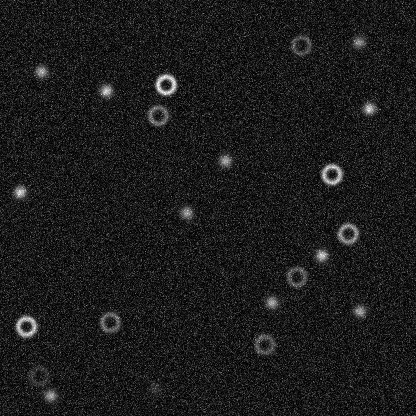Ring: (284, 264, 308, 288), (252, 332, 276, 356), (146, 103, 170, 127), (26, 363, 50, 387), (289, 33, 313, 57), (335, 221, 359, 245), (319, 162, 343, 186), (14, 314, 38, 338), (97, 310, 121, 334), (153, 72, 177, 96)
Spot: (350, 34, 366, 50), (313, 247, 329, 263), (42, 387, 58, 403), (360, 100, 376, 116), (11, 184, 27, 200), (351, 303, 367, 319), (98, 82, 114, 98), (178, 204, 194, 220), (263, 294, 279, 310), (217, 152, 233, 168), (33, 63, 49, 79), (146, 380, 162, 396)
